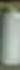cylinder: (1, 1, 20, 70)
